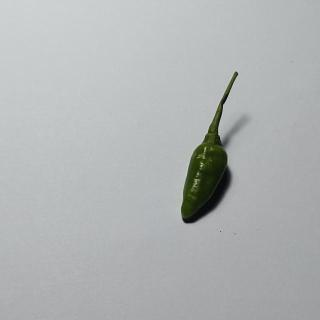Cabai Hijau: (176, 66, 250, 230)
